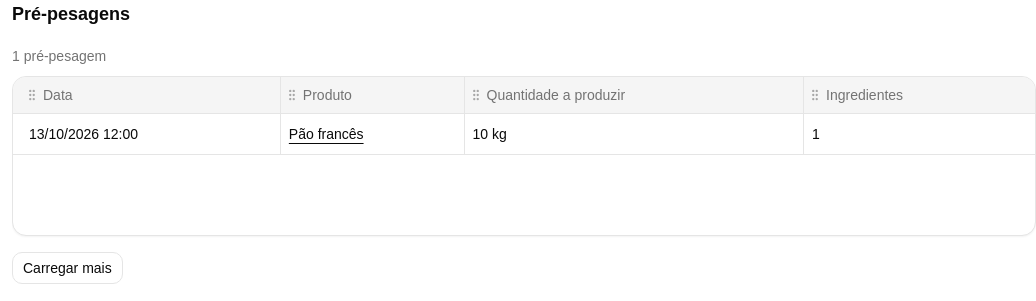
PreWeighingsListPage › loads the older pre-weighings on request, until there are no more
What coordinates should you click on to do the following:
click the button "Carregar mais"
I would click on:
 (67, 268)
Its box is x1=12 y1=252 x2=123 y2=284.
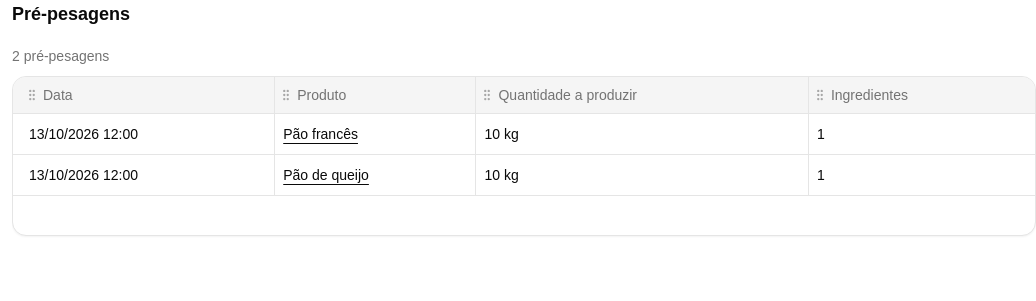
Expected: the link "Pão francês" is shown, x1=283 y1=126 x2=358 y2=142
Expected: the link "Pão de queijo" is shown, x1=283 y1=166 x2=369 y2=182
Expected: the button "Carregar mais" is gone
